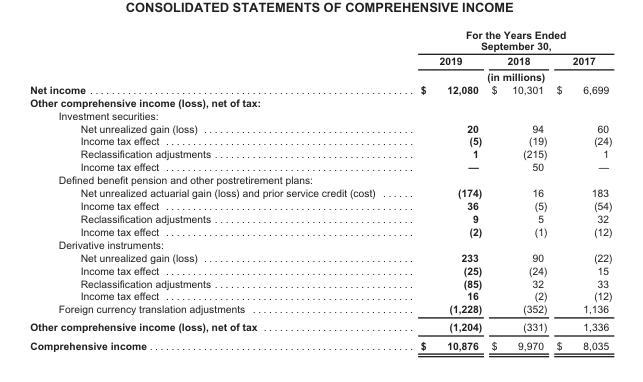table: (29, 28, 611, 350)
table column: (29, 28, 397, 350), (397, 28, 485, 350), (485, 28, 551, 350), (551, 28, 611, 350)
table column header: (29, 28, 611, 82)
table projected row header: (29, 95, 611, 108), (29, 108, 611, 121), (29, 237, 611, 250), (29, 173, 611, 185)
table row: (29, 28, 611, 52), (29, 317, 611, 335), (29, 52, 611, 68), (29, 302, 611, 317), (29, 335, 611, 350), (29, 68, 611, 82), (29, 82, 611, 95), (29, 95, 611, 108), (29, 108, 611, 121), (29, 121, 611, 134), (29, 134, 611, 147), (29, 147, 611, 160), (29, 160, 611, 173), (29, 185, 611, 198), (29, 198, 611, 211), (29, 211, 611, 224), (29, 224, 611, 237), (29, 237, 611, 250), (29, 250, 611, 263), (29, 263, 611, 276), (29, 276, 611, 289), (29, 289, 611, 302), (29, 173, 611, 185)
table spanning cell: (397, 28, 611, 52), (397, 68, 611, 82)
